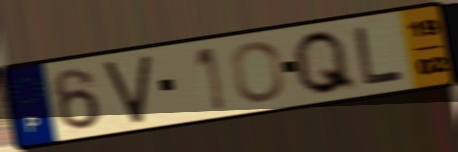1: (193, 44, 228, 113)
6: (50, 66, 103, 132)
L: (351, 24, 407, 88)
O: (229, 38, 287, 105)
Q: (289, 28, 361, 98)
V: (100, 51, 153, 126)
